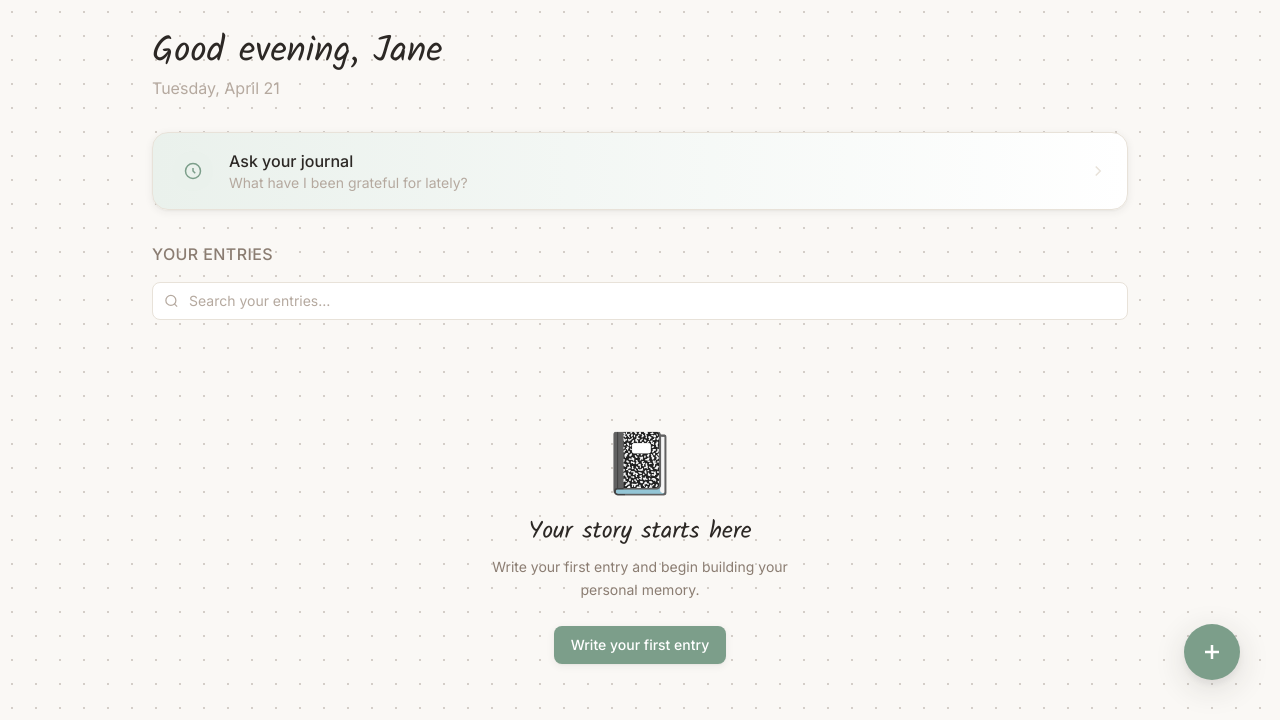
DashboardView › shows search-specific empty state when searching
Type "morning" into the search field with placeholder "Search your entries…" at [640, 301], box 152,282 -> 1128,320
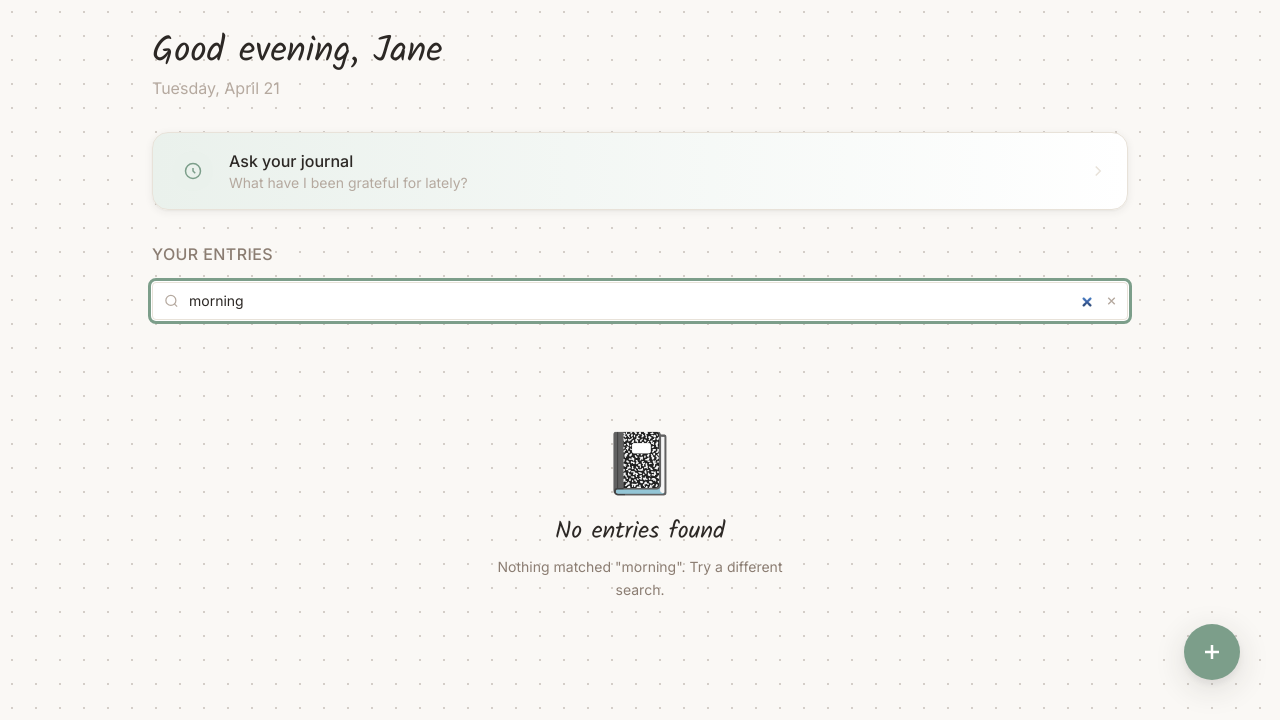
expect the heading "No entries found" is shown: met, box 555,516 -> 725,548
